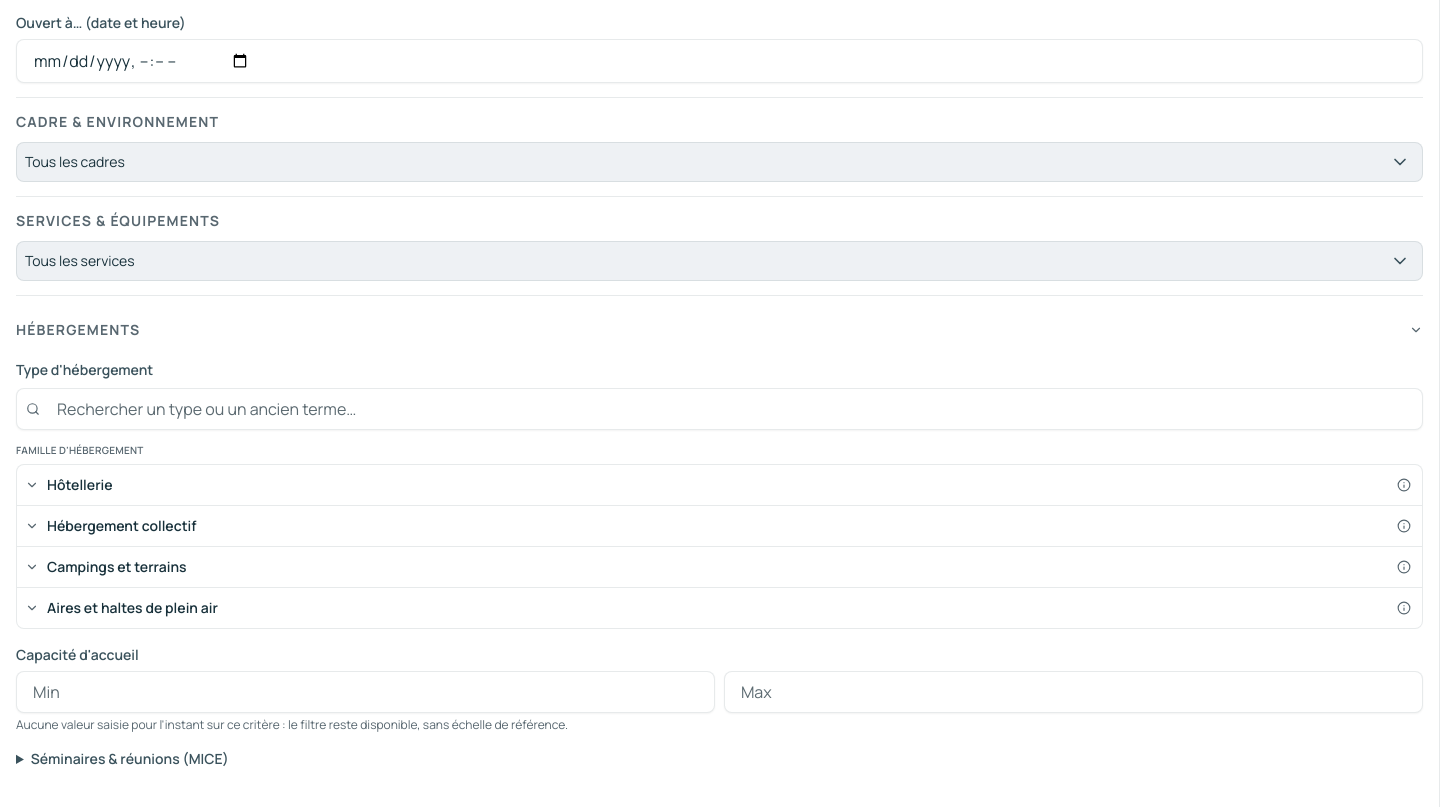
it: FiltersPanel — sections type-spécifiques repliables › §201 — hiérarchie v2 des hébergements › range les six natures collectives sous UN seul bloc Nature, sans bloc Sous-type
The image size is (1440, 807).
(page scrolled)
Click the button "Hébergement collectif": [122, 526] box [17,506,1422,546]
(page scrolled)
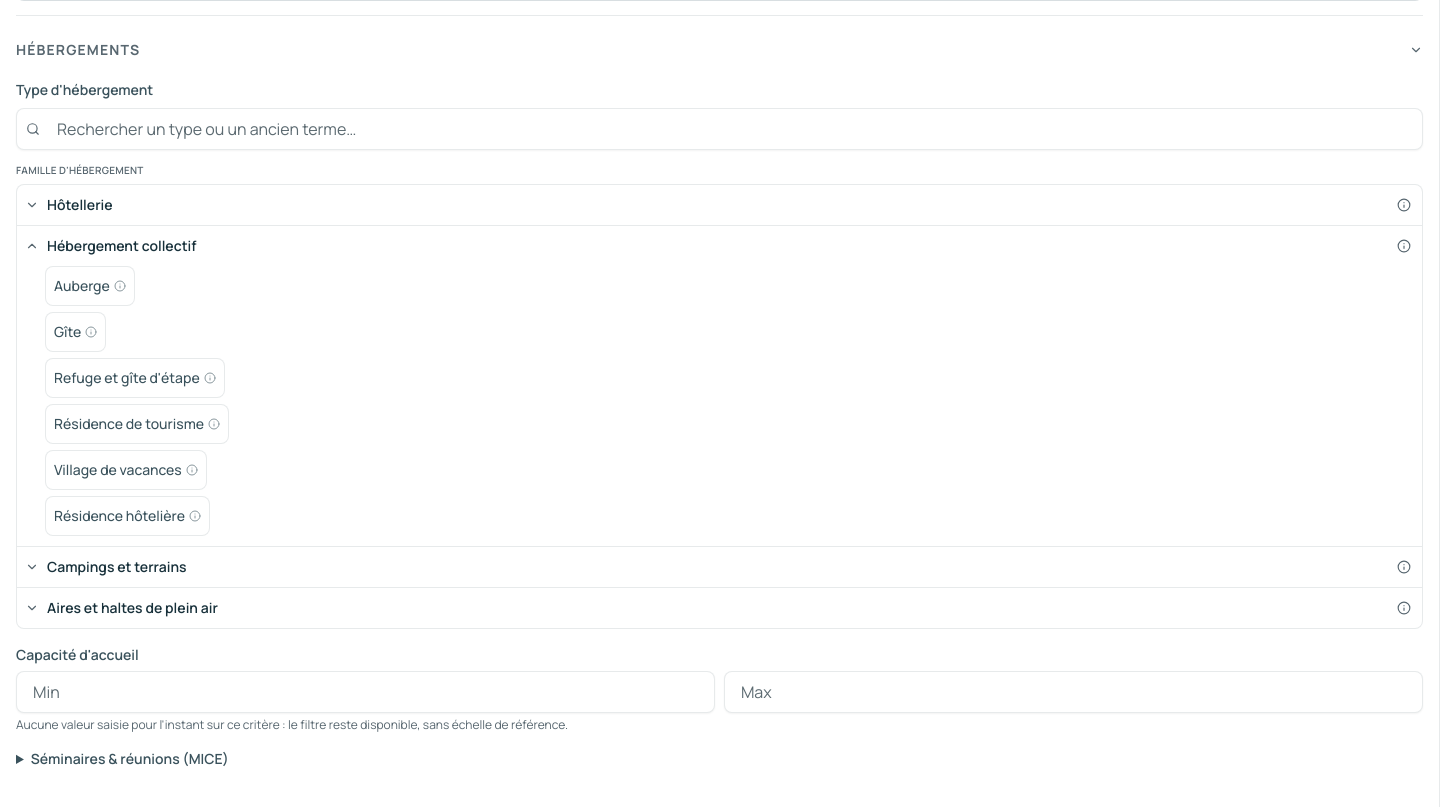
Now the button "Auberge" is shown, box [45,266,135,306]
Now the button "Gîte" is shown, box [45,312,106,352]
Now the button "Refuge et gîte d'étape" is shown, box [45,358,225,398]
